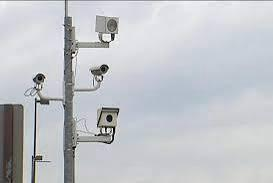Speed-Camera: (28, 71, 123, 152), (70, 8, 123, 93)
